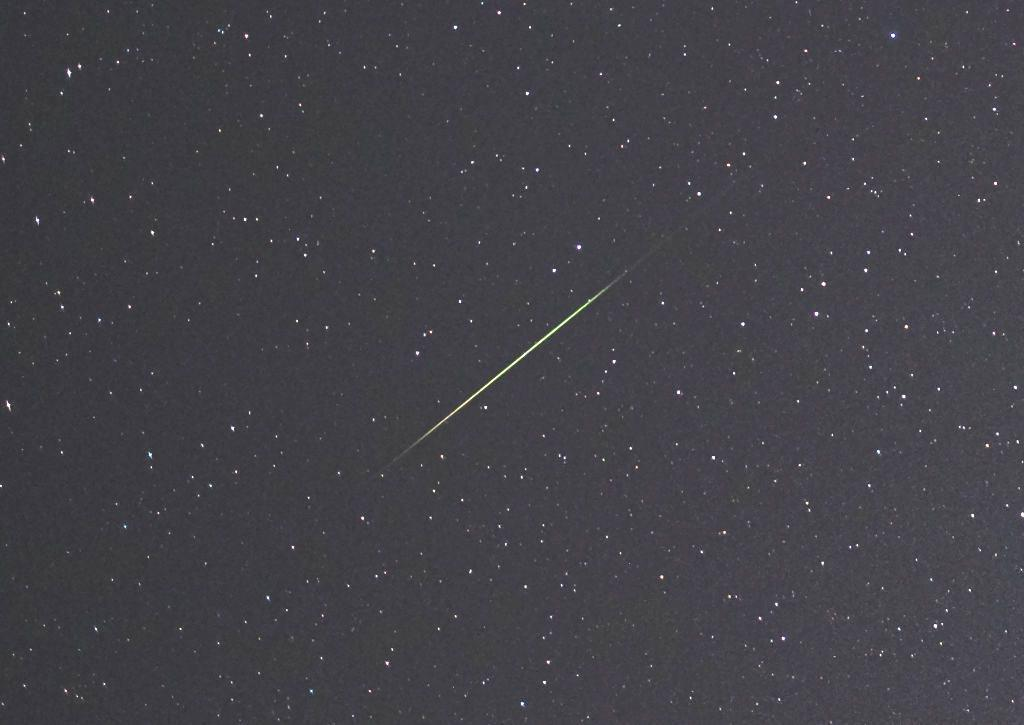meteorite: (382, 217, 732, 491)
